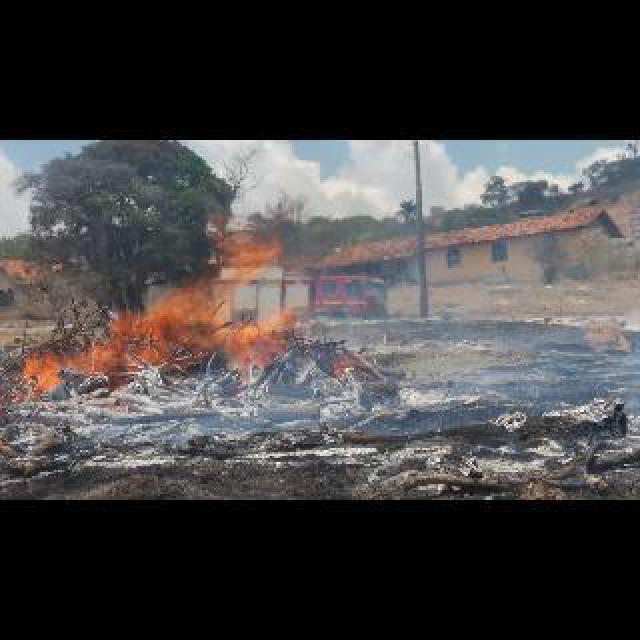Fire: (14, 206, 300, 382), (332, 352, 354, 378)
